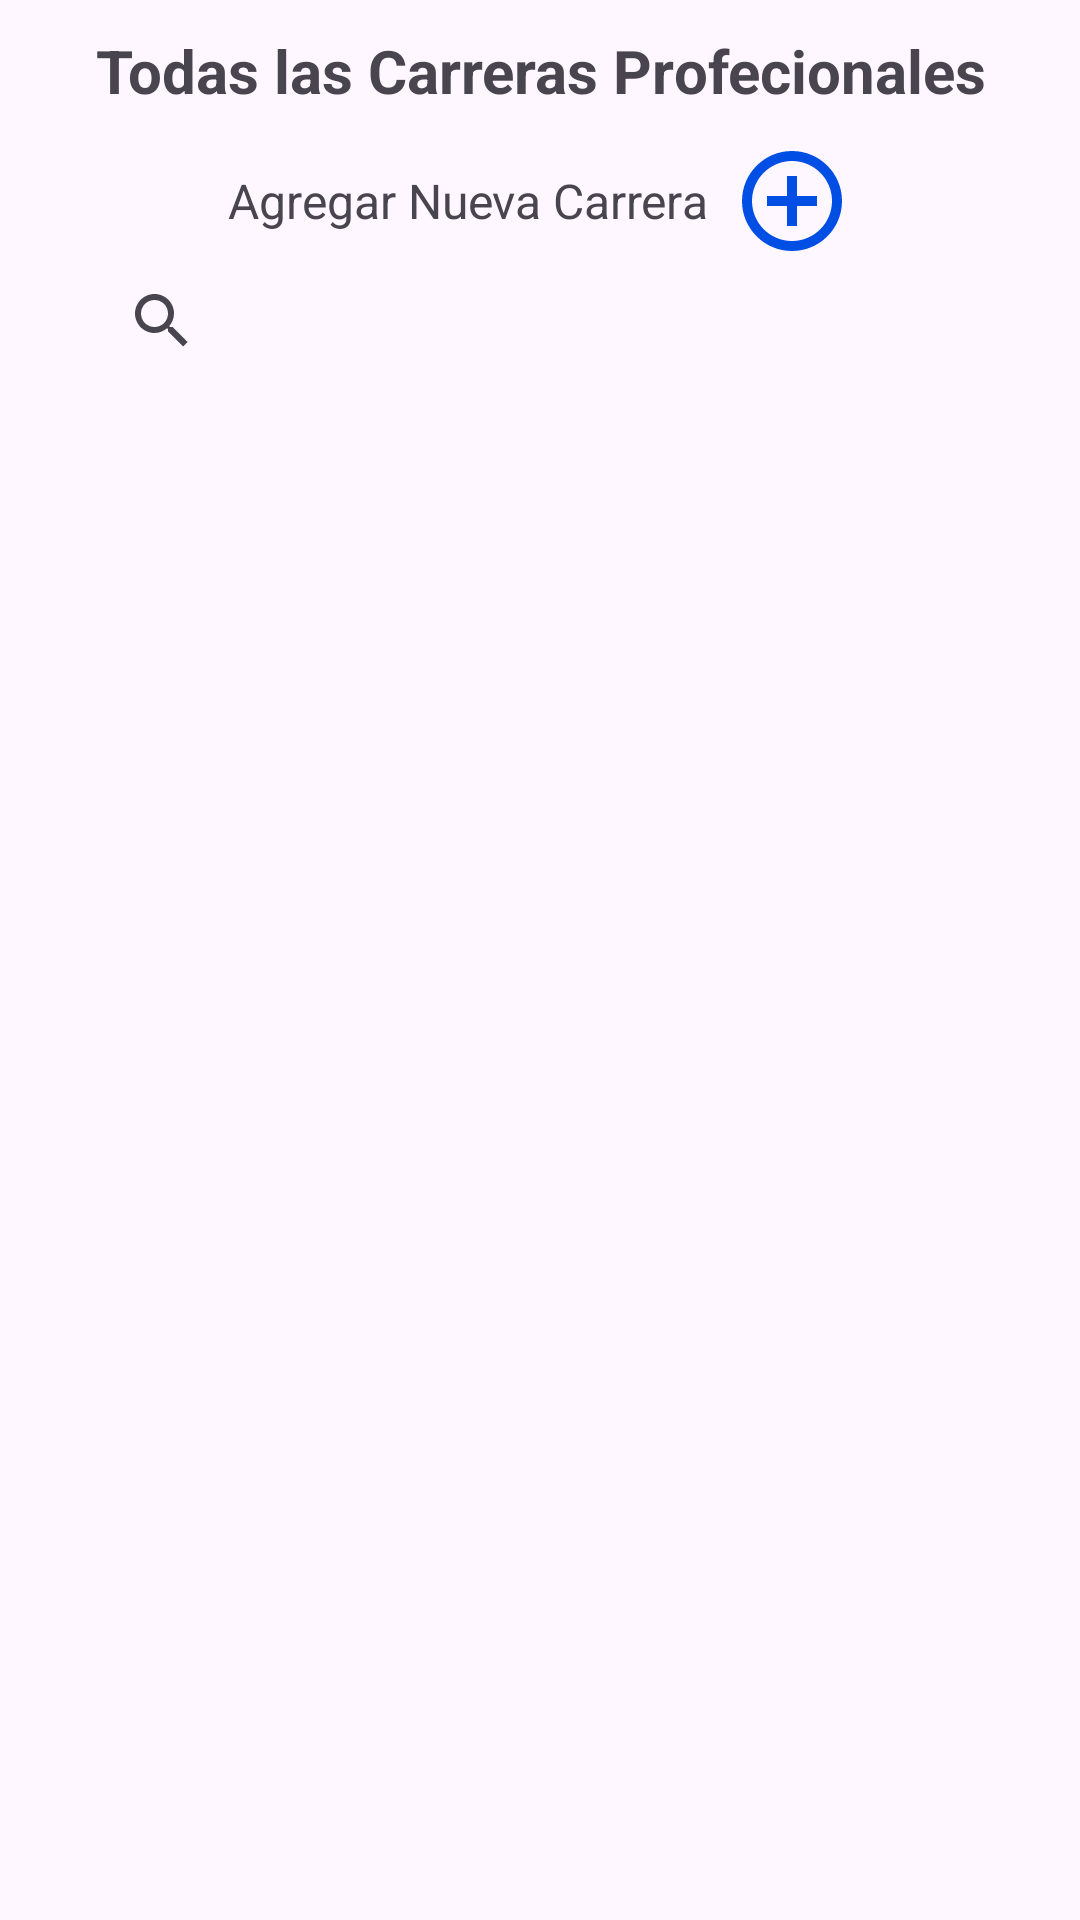

Where icons sit on this 1080*1920 app screen, as bbox(x1, y1, x2, y2):
add circle: bbox(742, 151, 842, 251)
